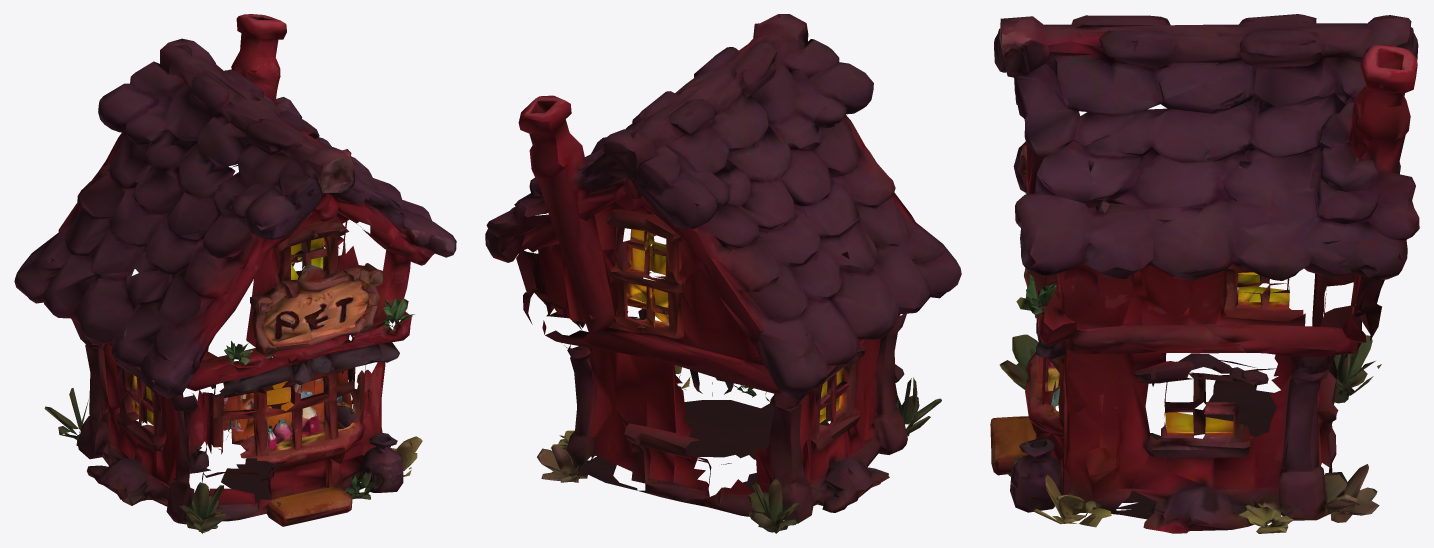
File: tripo-pocoes154.glb
The picture shows the model from 3 angles, left to right: view 1: azimuth 30°, elevation 25°; view 2: azimuth 150°, elevation 25°; view 3: azimuth 270°, elevation 25°; orthographic projection. The views are drawn at different scales.
Visible parts, largest first — view 1: tripo_node_b0fae7a2-9399-41b8-ae2e-833404364887; view 2: tripo_node_b0fae7a2-9399-41b8-ae2e-833404364887; view 3: tripo_node_b0fae7a2-9399-41b8-ae2e-833404364887.
Part boxes in pixels (bbox=[...]): tripo_node_b0fae7a2-9399-41b8-ae2e-833404364887: bbox=[14, 14, 456, 533]; tripo_node_b0fae7a2-9399-41b8-ae2e-833404364887: bbox=[485, 14, 961, 533]; tripo_node_b0fae7a2-9399-41b8-ae2e-833404364887: bbox=[990, 14, 1419, 533].
Size of the model in its own units: 0.8763 by 0.9779 by 0.8233.
1 material, 1 textured.
